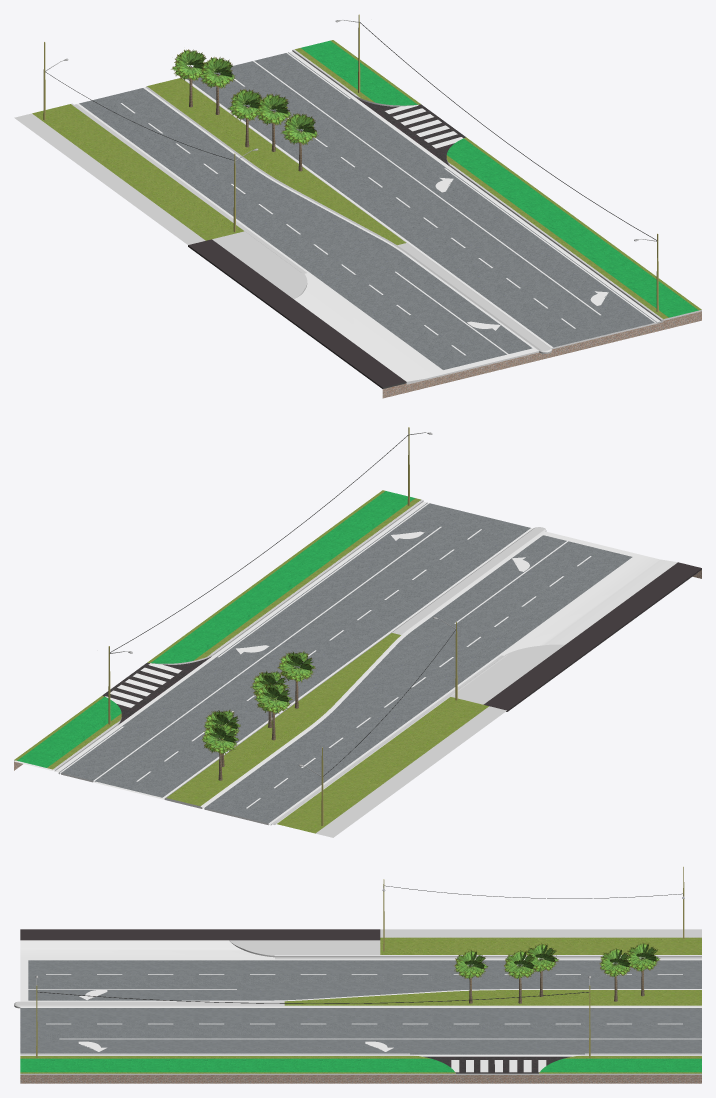
File: BP Lite.obj
The picture shows the model from 3 angles, top to bottom: view 1: azimuth 30°, elevation 25°; view 2: azimuth 150°, elevation 25°; view 3: azimuth 270°, elevation 25°; orthographic projection. The views are drawn at different scales.
Parts seen in each view (by area): view 1: Mesh230 Model, Mesh7 Group7 Model; view 2: Mesh230 Model, Mesh7 Group7 Model; view 3: Mesh230 Model, Mesh7 Group7 Model, Mesh238 Model.
Boxes of the visible parts, x1=… form: Mesh230 Model: x1=14, y1=40, x2=701, y2=398; Mesh7 Group7 Model: x1=188, y1=239, x2=406, y2=388; Mesh230 Model: x1=14, y1=490, x2=701, y2=837; Mesh7 Group7 Model: x1=483, y1=562, x2=701, y2=711; Mesh230 Model: x1=14, y1=929, x2=701, y2=1083; Mesh7 Group7 Model: x1=20, y1=929, x2=380, y2=940; Mesh238 Model: x1=37, y1=991, x2=588, y2=1003.
Bounding box in the file's own units: 107 × 28.59 × 216.
16 materials, 7 textured.
